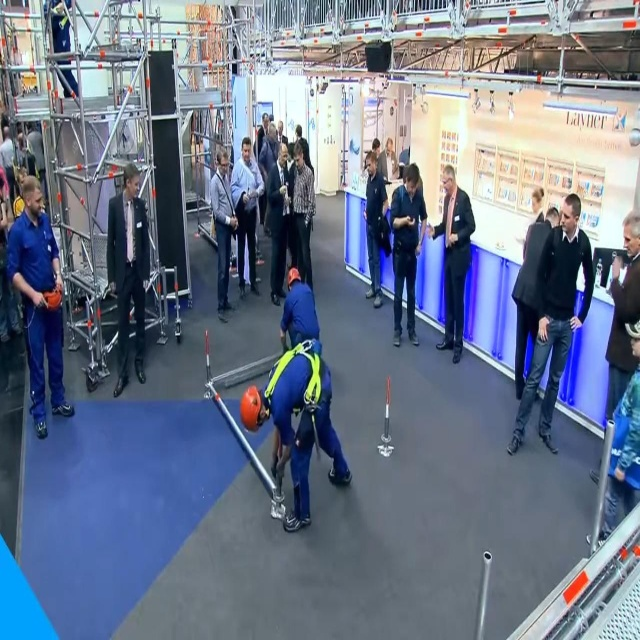Arnes_seguridad: (261, 337, 330, 437)
